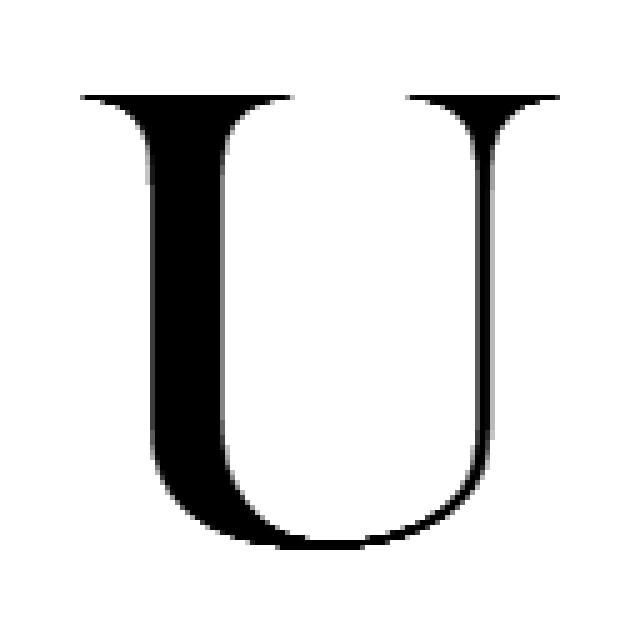U: (75, 80, 560, 550)
